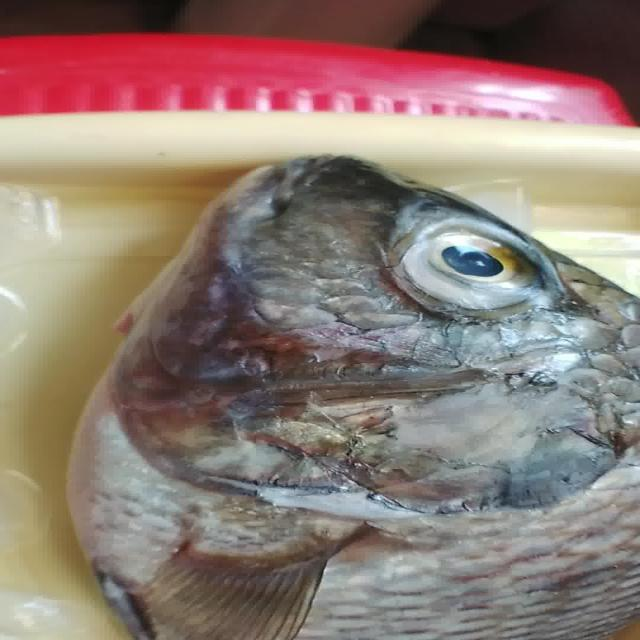Fresh: (127, 339, 637, 640), (383, 211, 558, 315)
